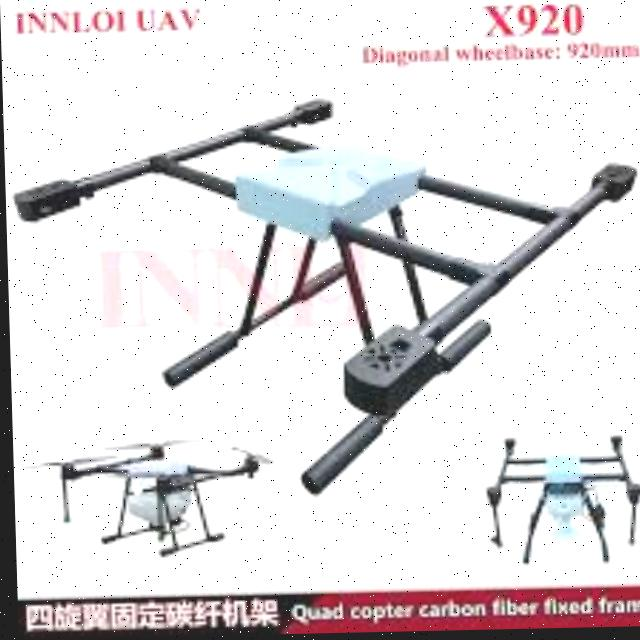drone: (4, 88, 636, 415), (26, 417, 275, 574), (474, 425, 640, 576)
